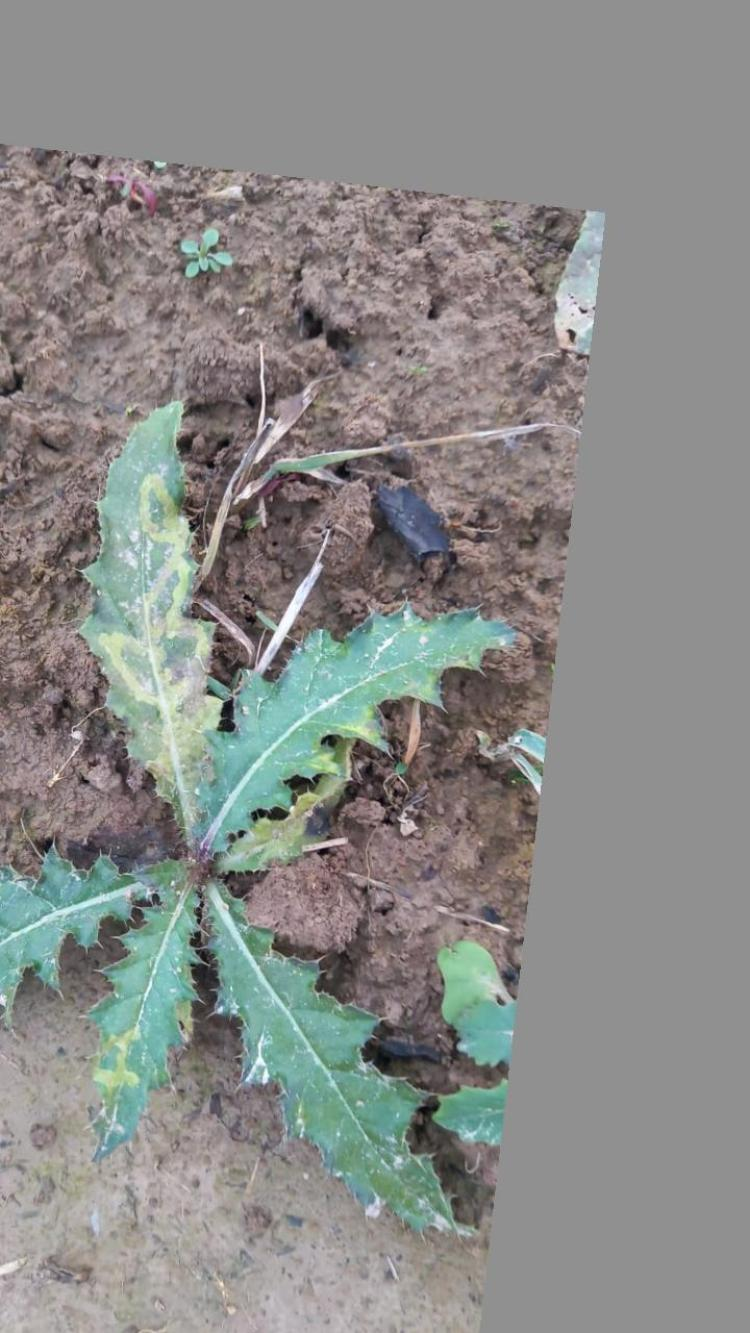osot: (0, 398, 525, 1243)
